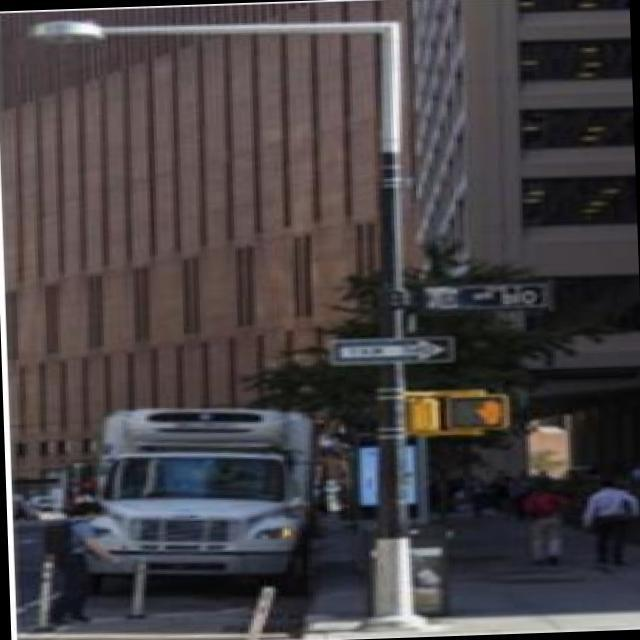off: (13, 8, 128, 86)
